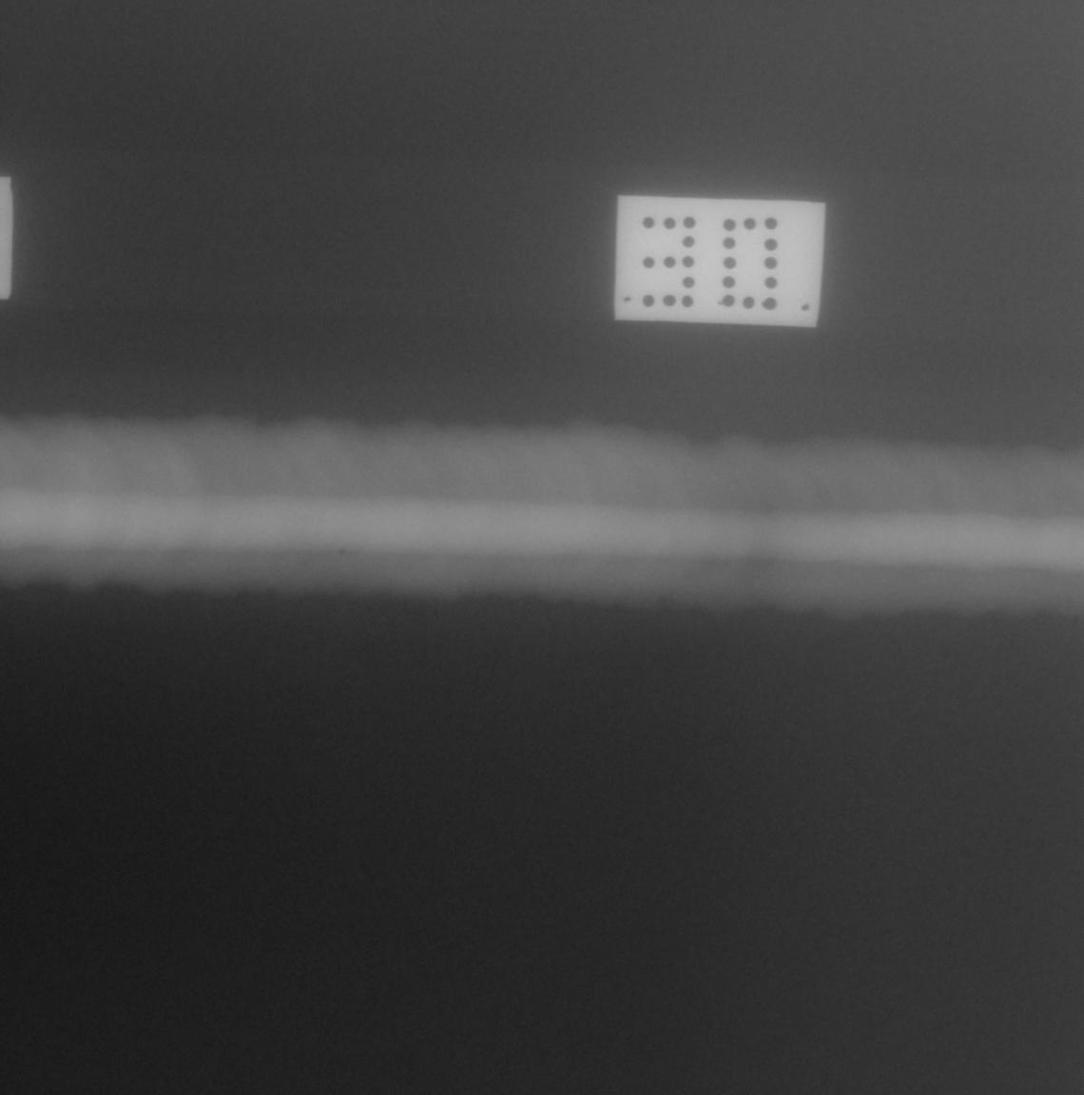Pore/Porosity: (337, 550, 345, 556)
